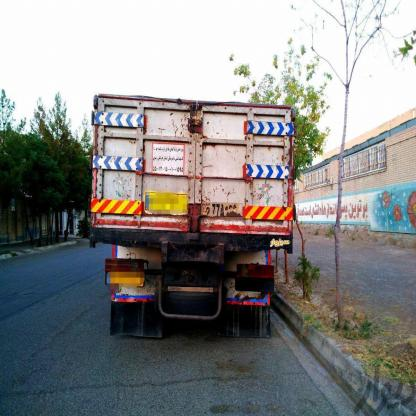Truck: (90, 91, 298, 339)
